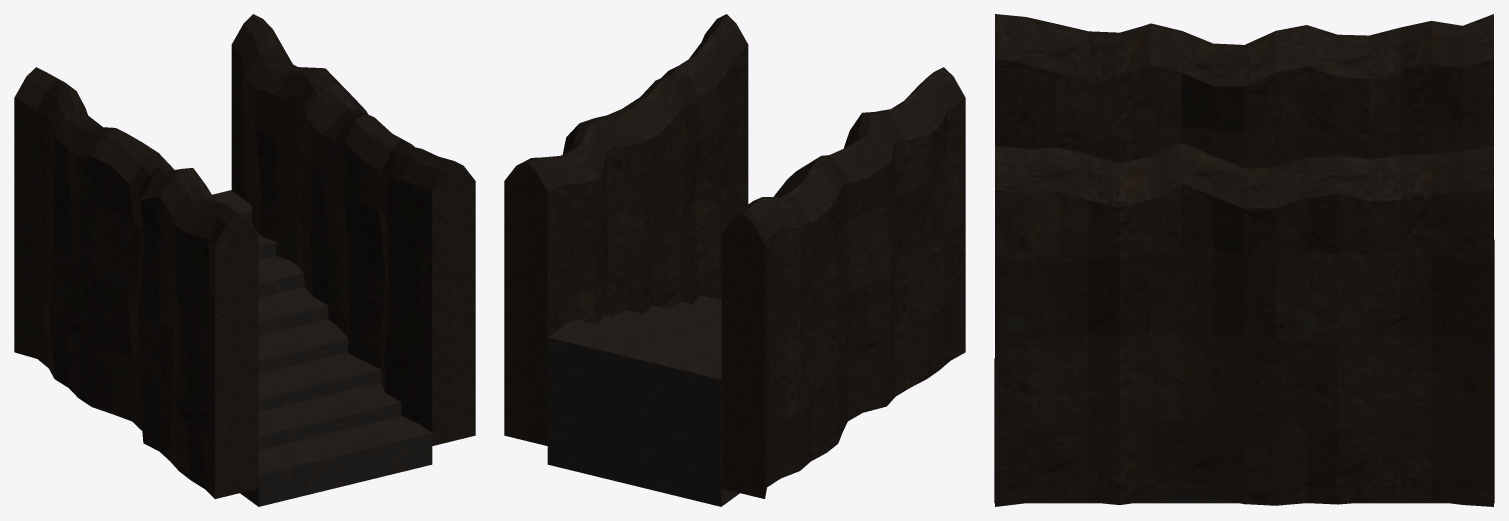
The model's file is cave_stairs_01_lava.glb.
The picture shows the model from 3 angles, left to right: view 1: azimuth 30°, elevation 25°; view 2: azimuth 150°, elevation 25°; view 3: azimuth 270°, elevation 25°; orthographic projection. The views are drawn at different scales.
Visible parts, largest first — view 1: cave_stairs_01_lava; view 2: cave_stairs_01_lava; view 3: cave_stairs_01_lava.
Boxes of the visible parts, left/top/right/bottom form: cave_stairs_01_lava: left=14, top=14, right=475, bottom=506; cave_stairs_01_lava: left=504, top=14, right=965, bottom=506; cave_stairs_01_lava: left=994, top=14, right=1494, bottom=506.
Bounding box in the file's own units: 3.09 × 3.28 × 4.01.
3 materials, 2 textured.
